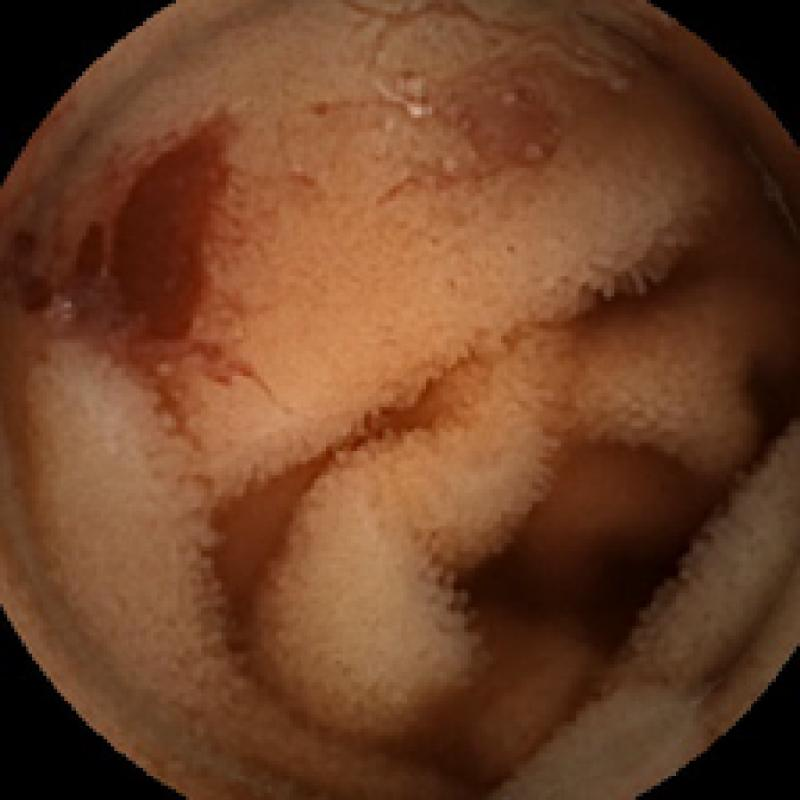bleeding: (7, 111, 236, 325)
